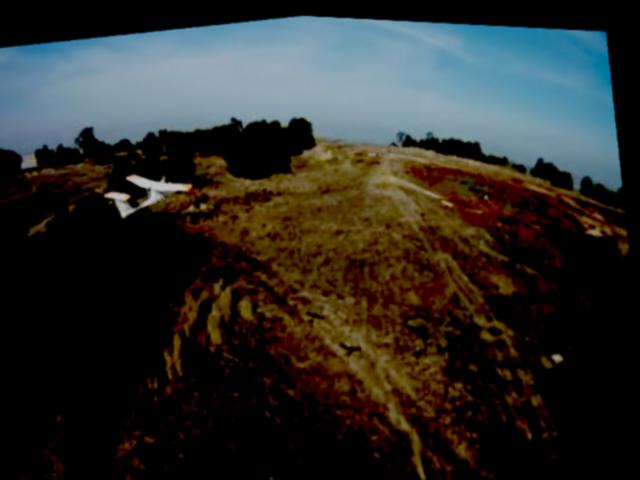uav: (96, 153, 207, 231)
